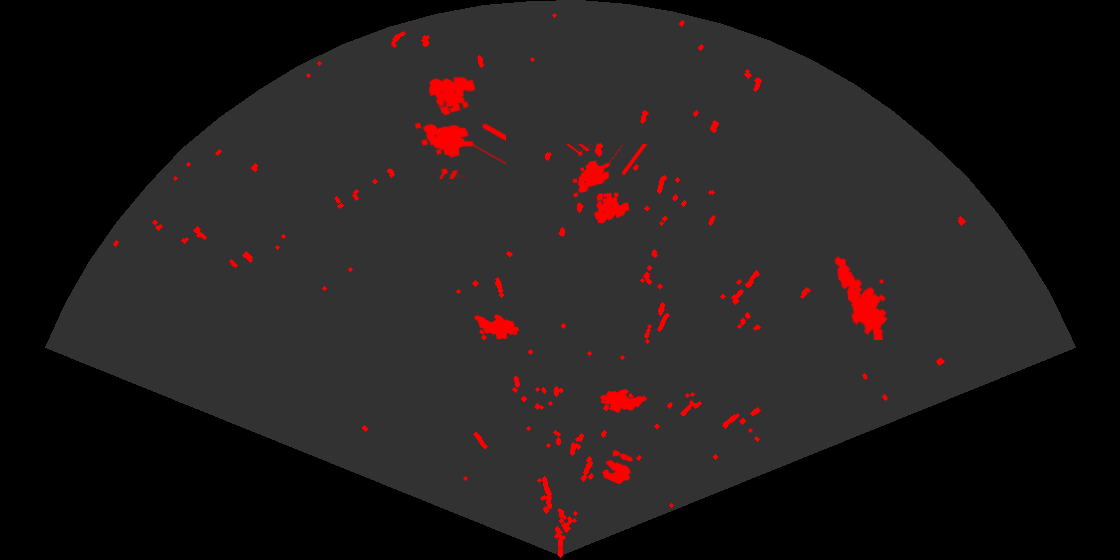AUV: (473, 313, 521, 341), (598, 388, 649, 414)
ball: (600, 449, 634, 486)
cage: (413, 75, 506, 179), (565, 144, 649, 225)
frogman: (833, 255, 889, 340)
